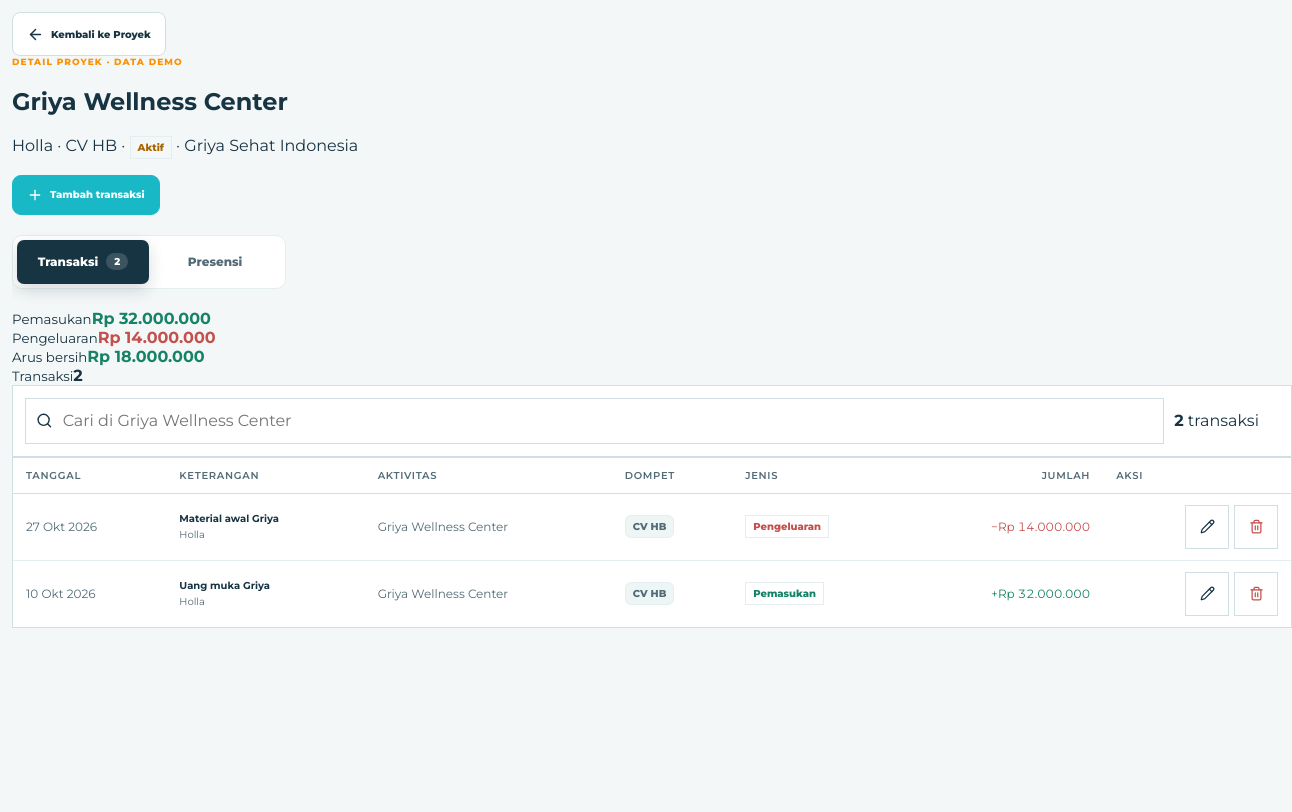
Test: project presensi detail › does not leak stale data when the admin endpoint fails
The width and height of the screenshot is (1292, 812).
Click the tab "Presensi" at x=215, y=262, box [149, 240, 281, 284]
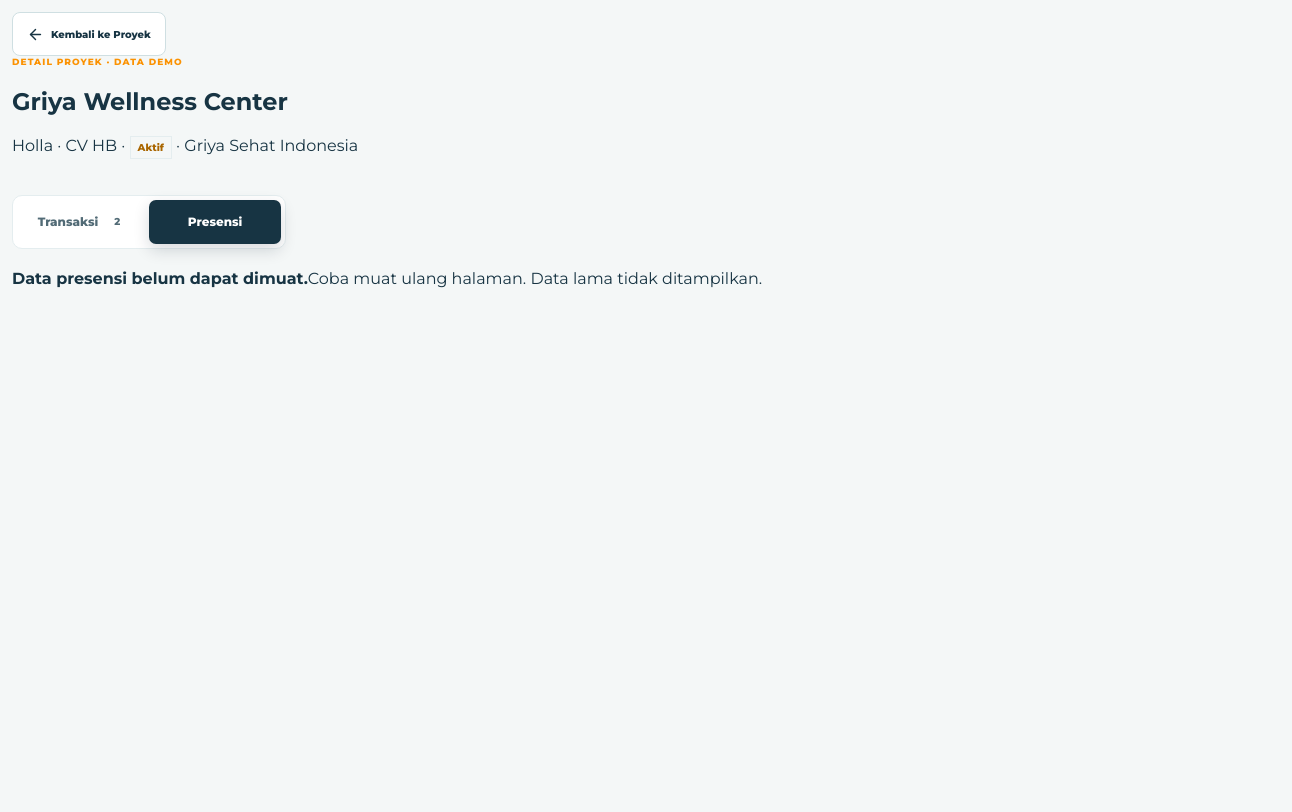
Check: the text "Data presensi belum dapat dimuat." is shown, box [12, 269, 308, 288]
